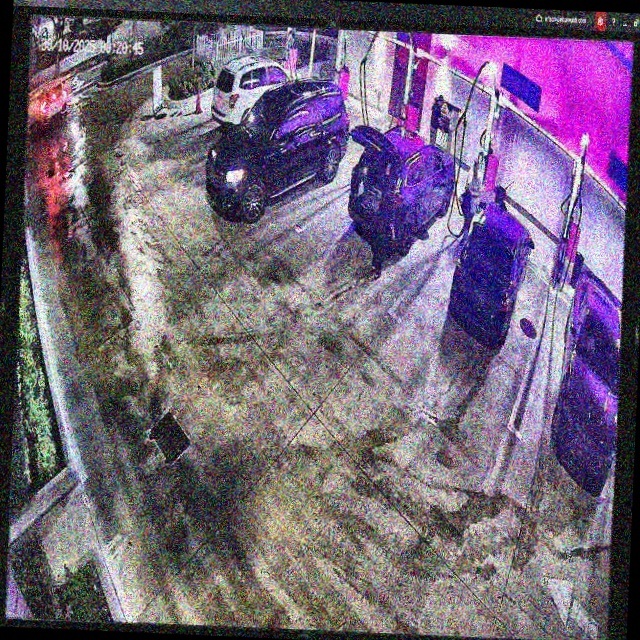Car: (205, 70, 353, 226), (345, 124, 456, 257), (449, 202, 532, 344)
